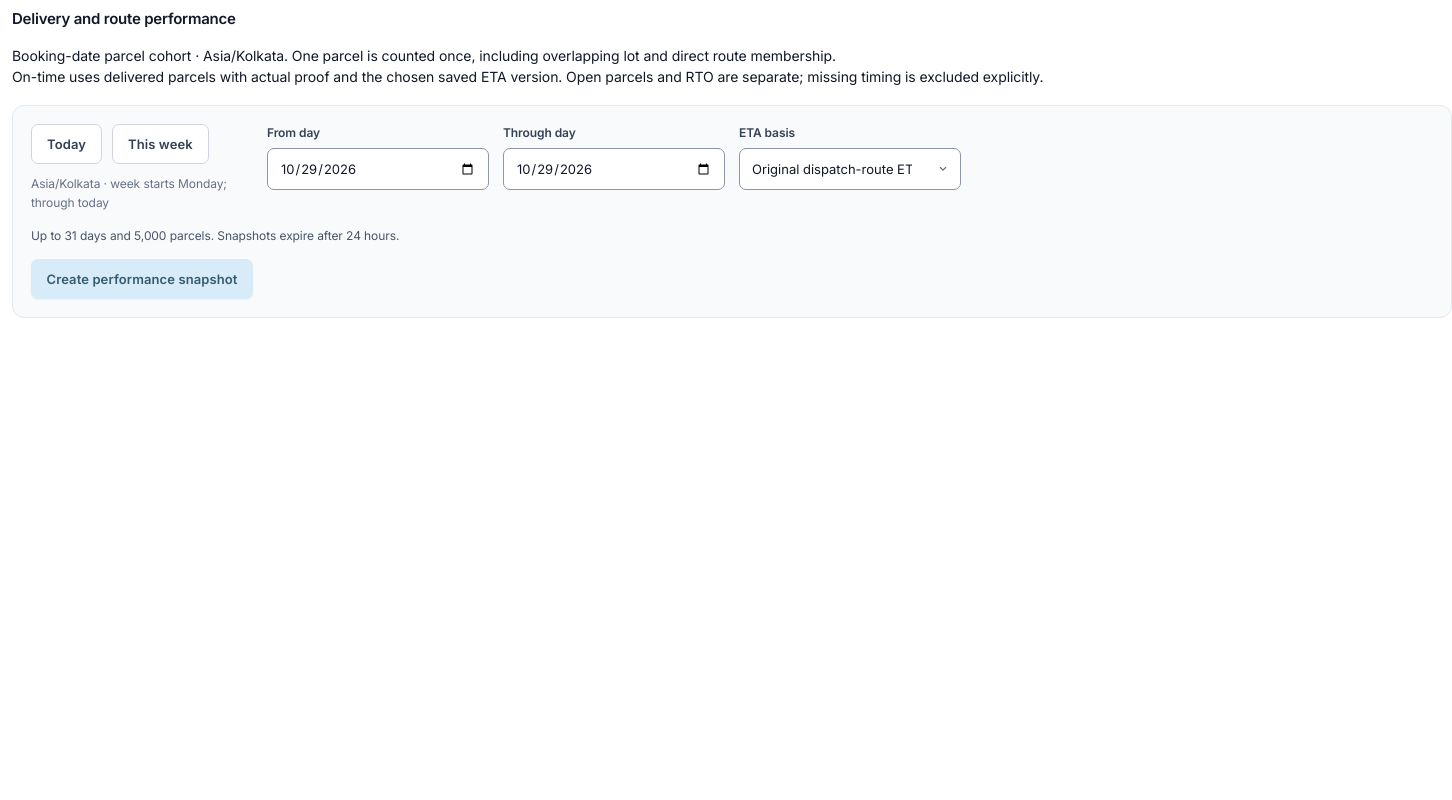
Test: performance report production UI › keyboard submit saves identity, reloads, displays empty denominator and exports matching selection
Step 1. Type "2026-10-01" into the date field labelled "From day" → [378, 169], box [267,148,489,190]
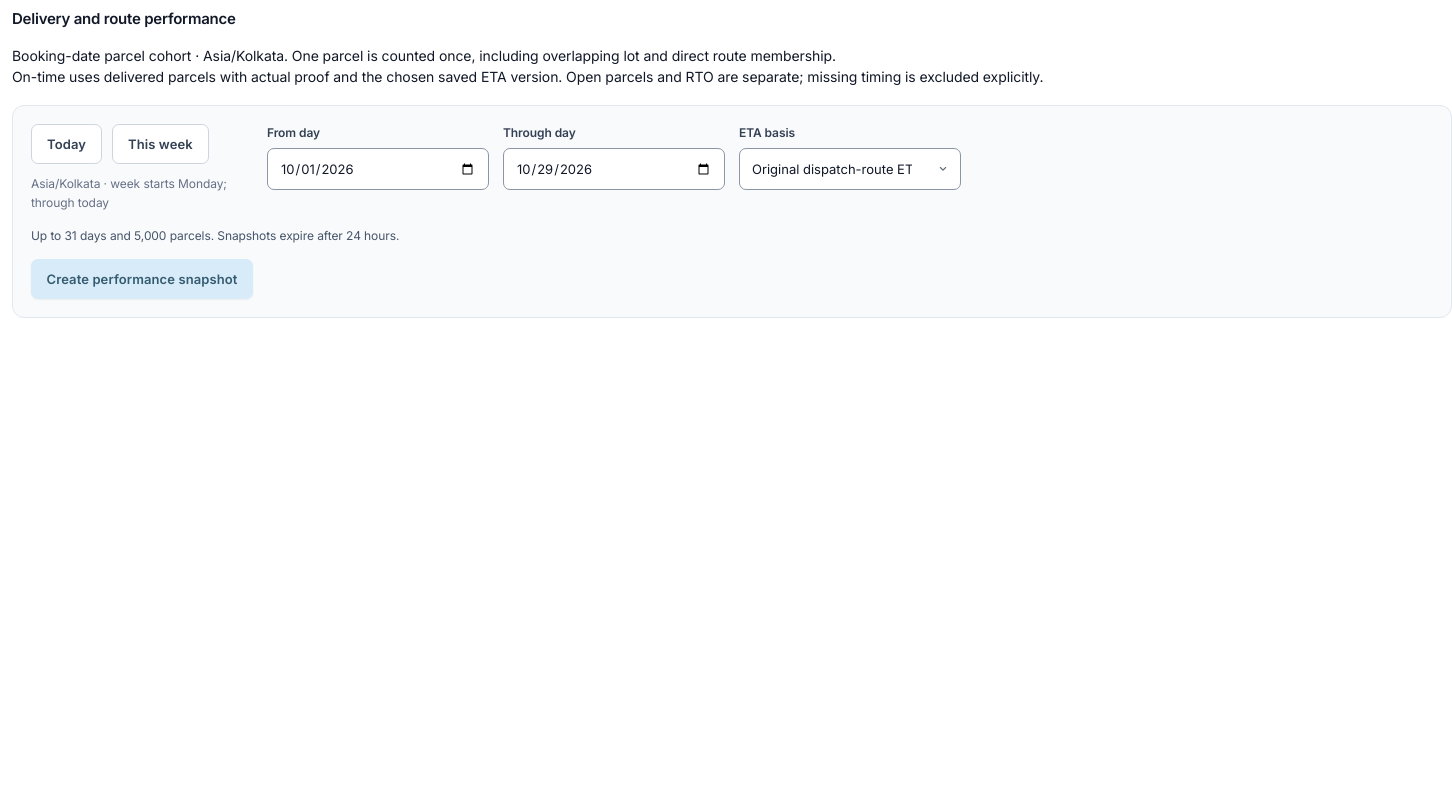
Step 2. Type "2026-10-01" into the date field labelled "Through day" → [614, 169], box [503,148,725,190]
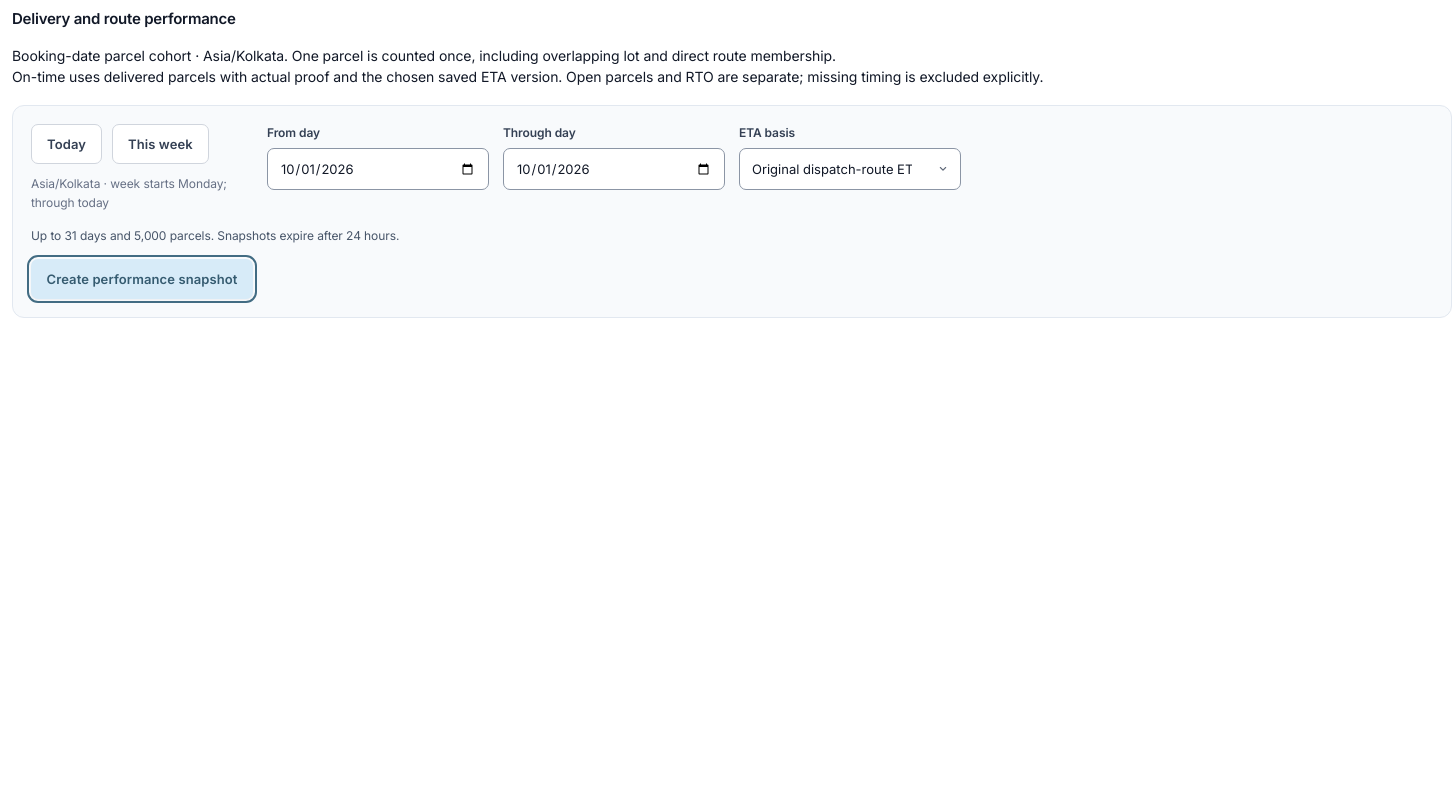
Step 3. Submit the form named "Create performance snapshot", box [12,105,1451,318]
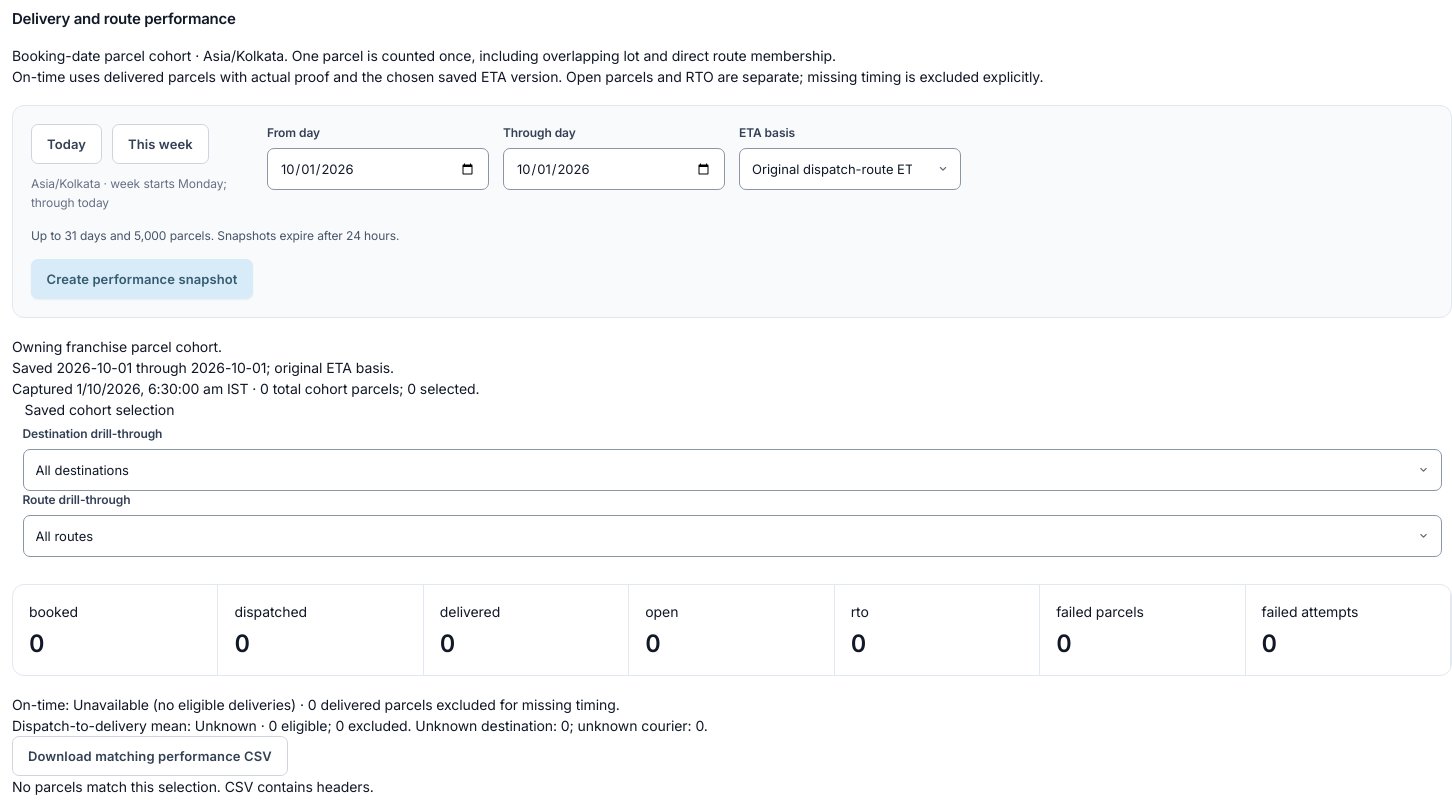
Result: the text "No parcels match this selection. CSV contains headers." is shown at [12,778,374,795]
Result: the text "Unavailable (no eligible deliveries)" is shown at [73,696,296,713]
Step 4. Click the button "Download matching performance CSV" → [150, 756], box [12,736,288,776]
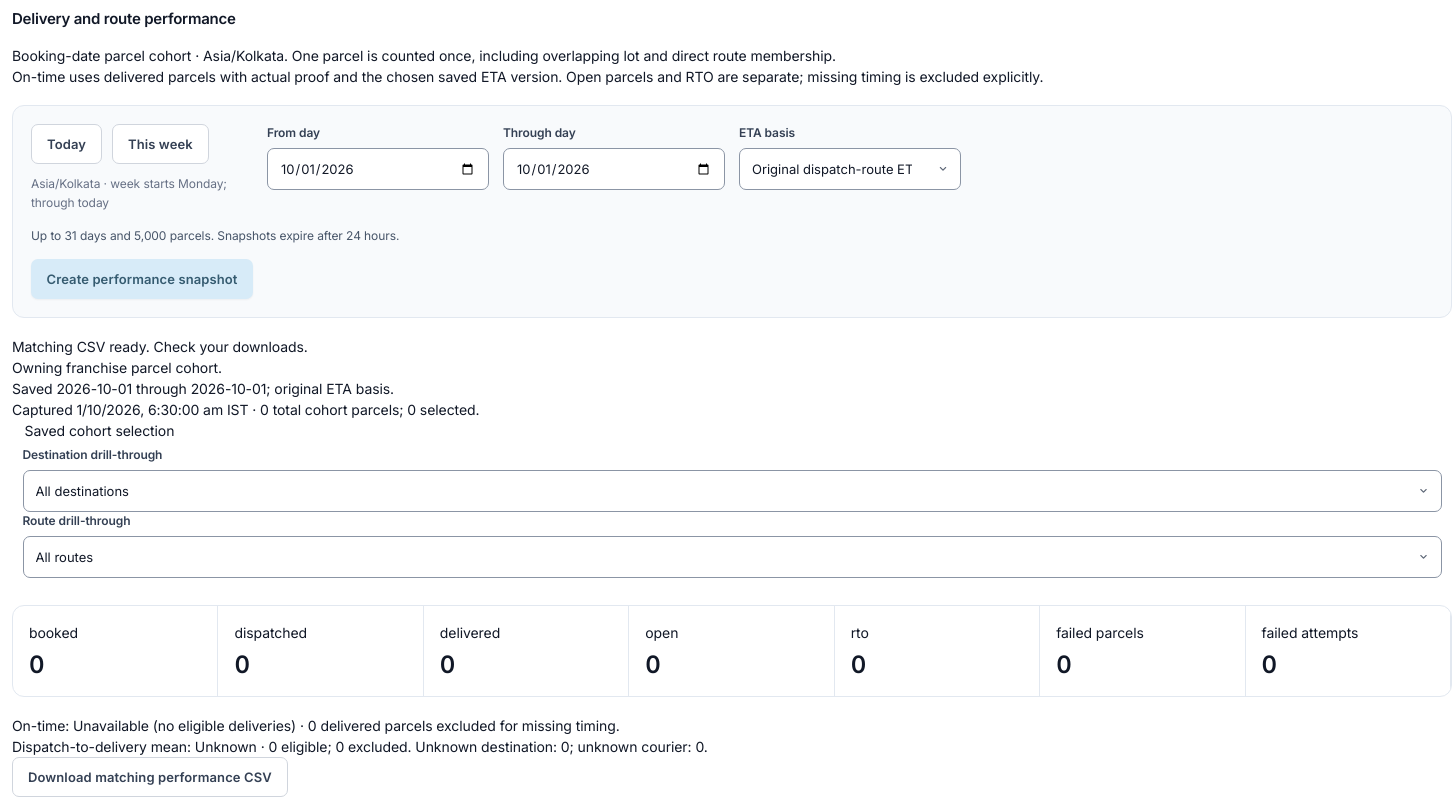
Result: the text "Matching CSV ready. Check your downloads." is shown at [12,338,308,355]
